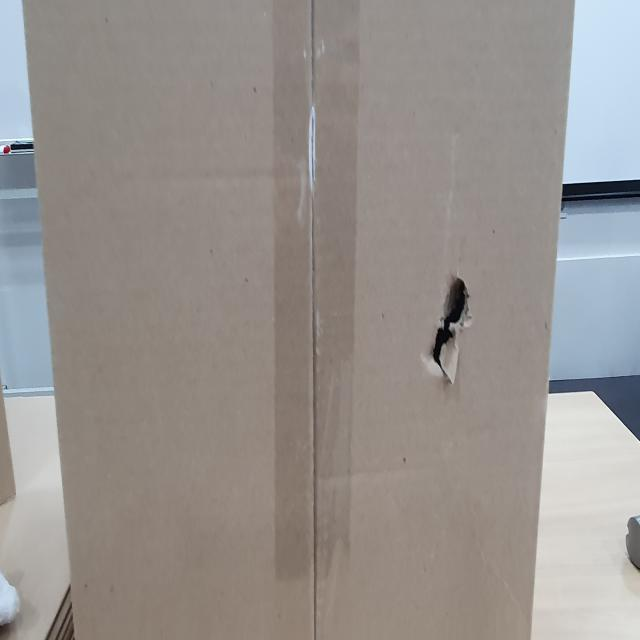hole: (424, 268, 478, 392)
